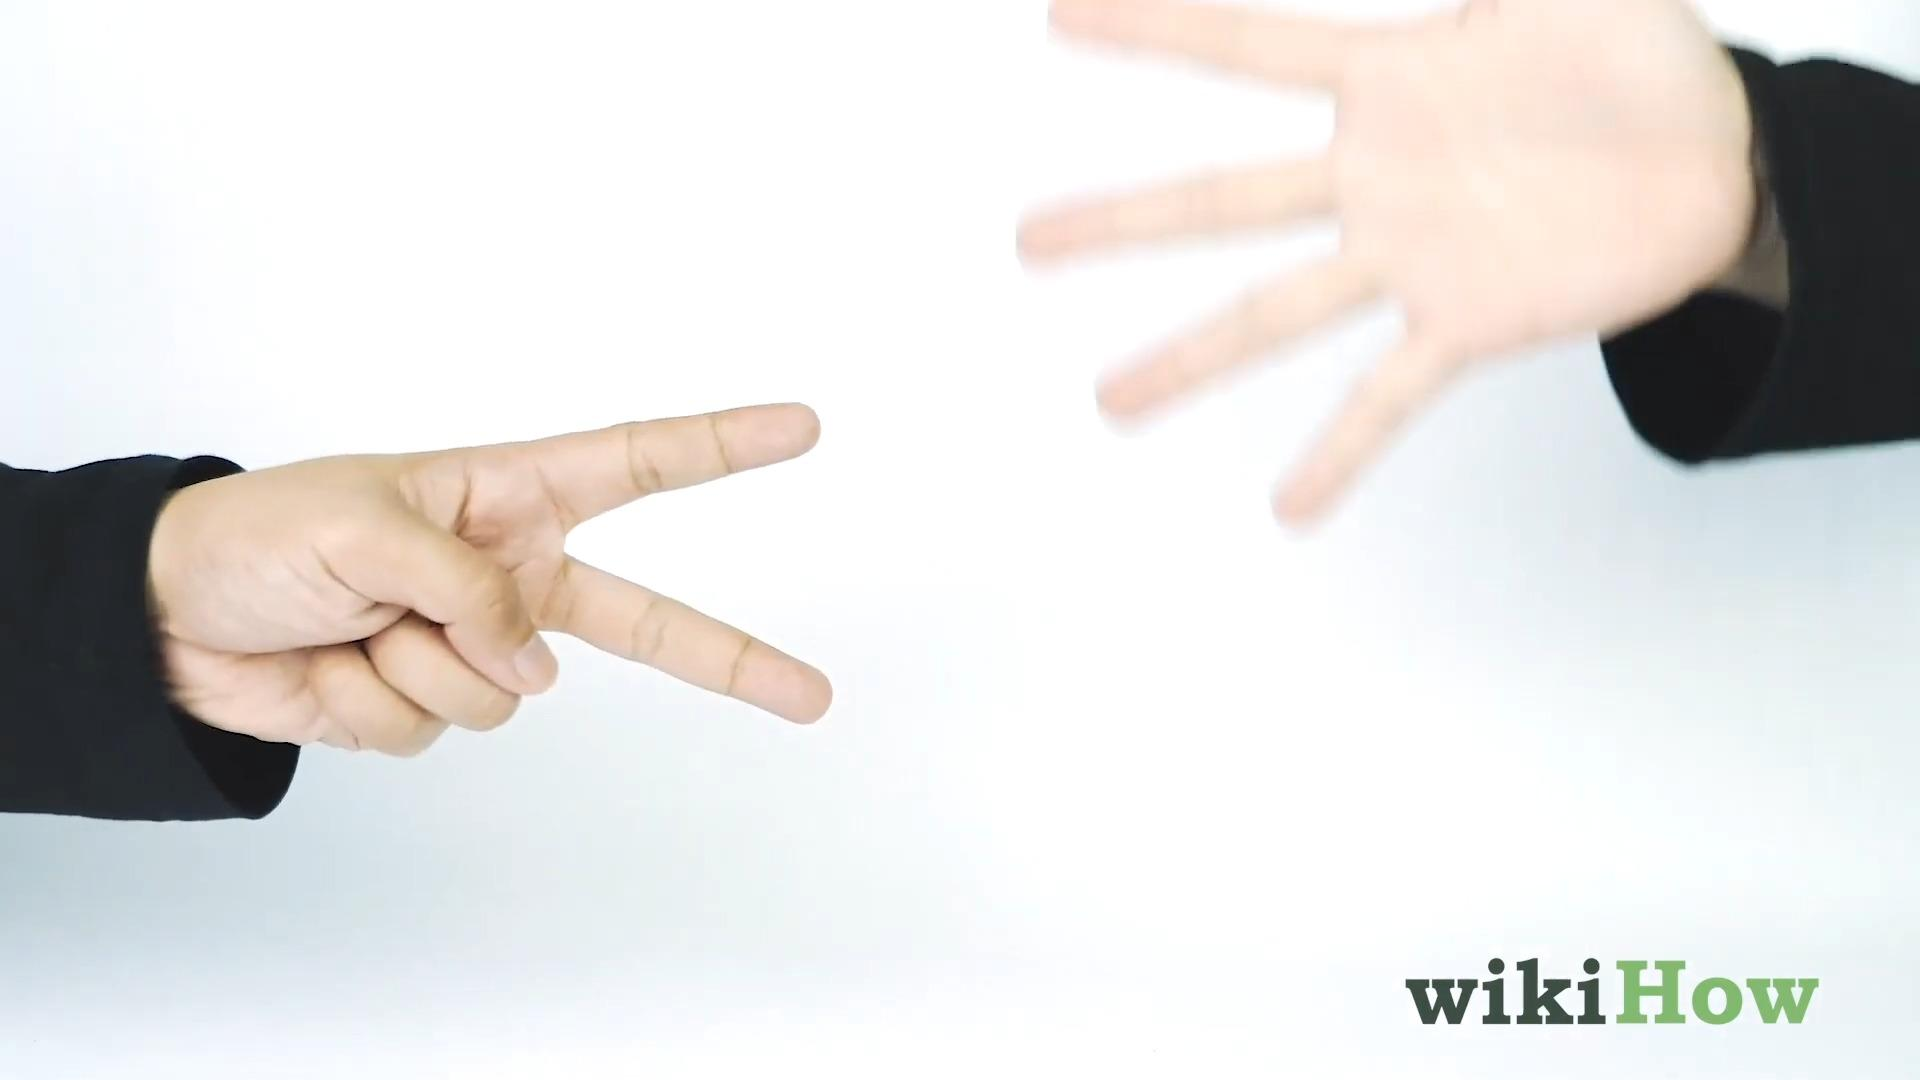Paper: (1013, 0, 1754, 529)
Scissors: (148, 396, 835, 757)
